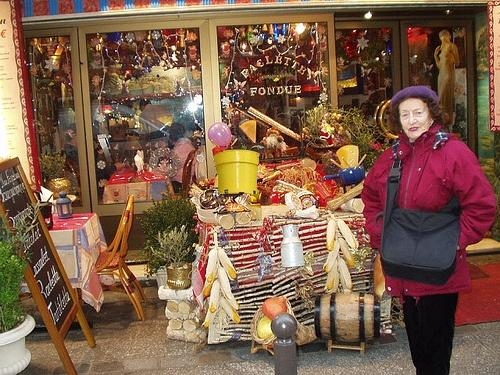tampered: (214, 141, 267, 194)
